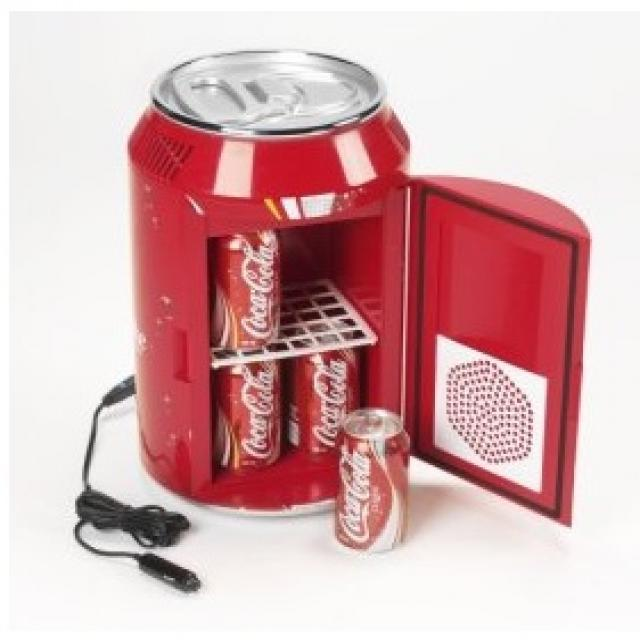coca-cola: (337, 416, 413, 560), (210, 230, 286, 346), (222, 356, 286, 472), (292, 343, 360, 452)
